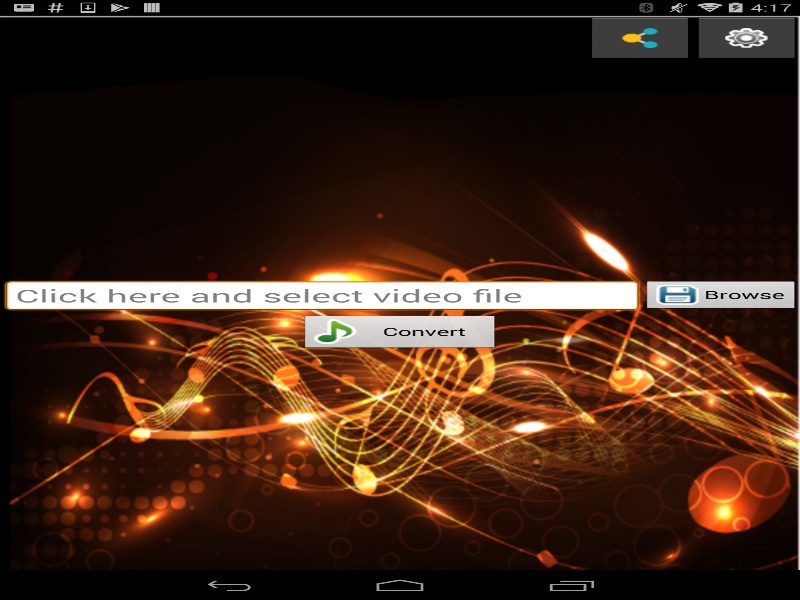Button: (300, 315, 500, 351), (642, 280, 800, 311), (586, 15, 693, 60), (693, 15, 800, 60)
Input: (2, 280, 642, 311)
